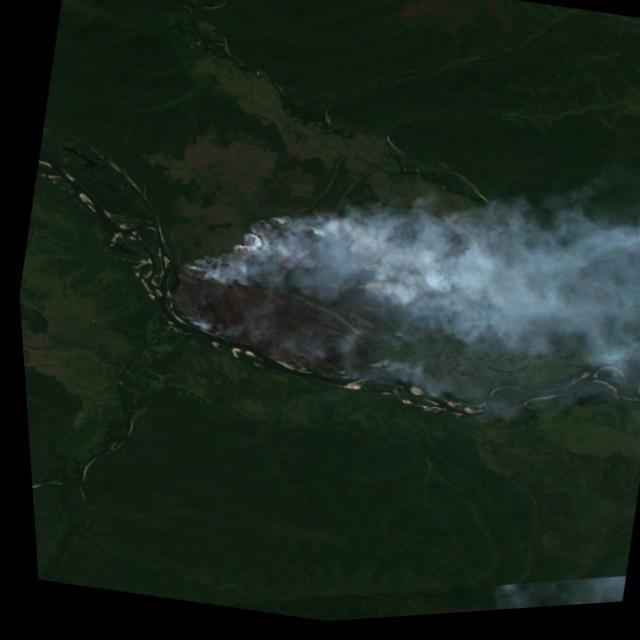fire: (165, 185, 432, 366), (356, 357, 396, 390)
